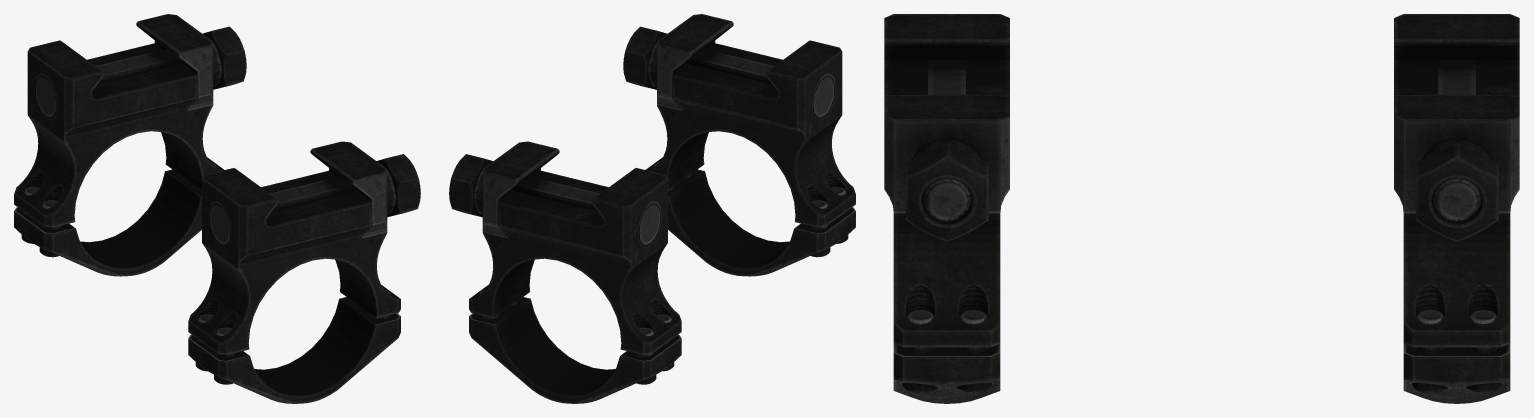
The picture shows the model from 3 angles, left to right: view 1: azimuth 30°, elevation 25°; view 2: azimuth 150°, elevation 25°; view 3: azimuth 270°, elevation 25°; orthographic projection. The views are drawn at different scales.
Visible parts, largest first — view 1: TW_5b3b99265acfc4704b4a1afb_PZ_Import; view 2: TW_5b3b99265acfc4704b4a1afb_PZ_Import; view 3: TW_5b3b99265acfc4704b4a1afb_PZ_Import.
Part boxes in pixels (x1,y1,x2,y2): TW_5b3b99265acfc4704b4a1afb_PZ_Import: (14, 14, 420, 403); TW_5b3b99265acfc4704b4a1afb_PZ_Import: (449, 14, 855, 403); TW_5b3b99265acfc4704b4a1afb_PZ_Import: (884, 14, 1519, 403).
Bounding box in the file's own units: 0.0279 × 0.0509 × 0.0279.
Materials: 1 (1 with a texture image).
